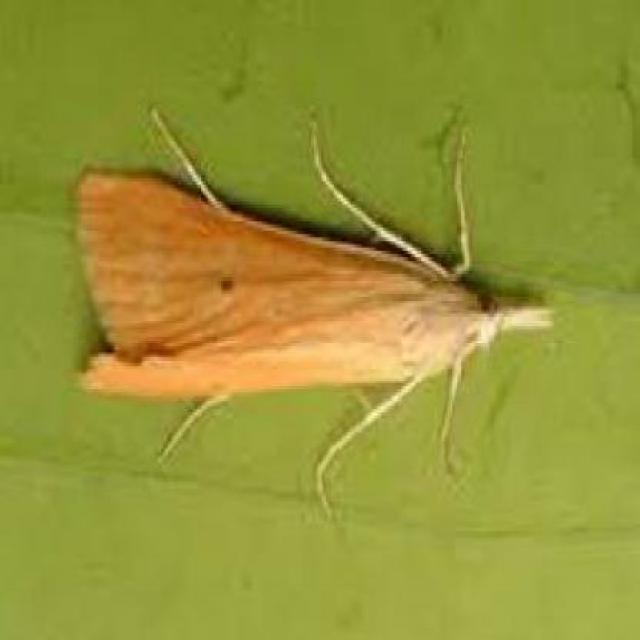stem-borer: (71, 102, 557, 523)
